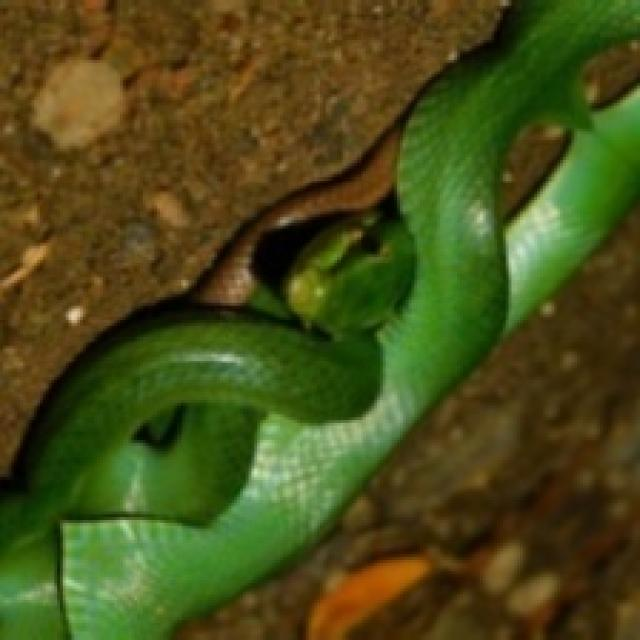red-tailed green ratsnake: (0, 0, 640, 639), (0, 0, 637, 637)
